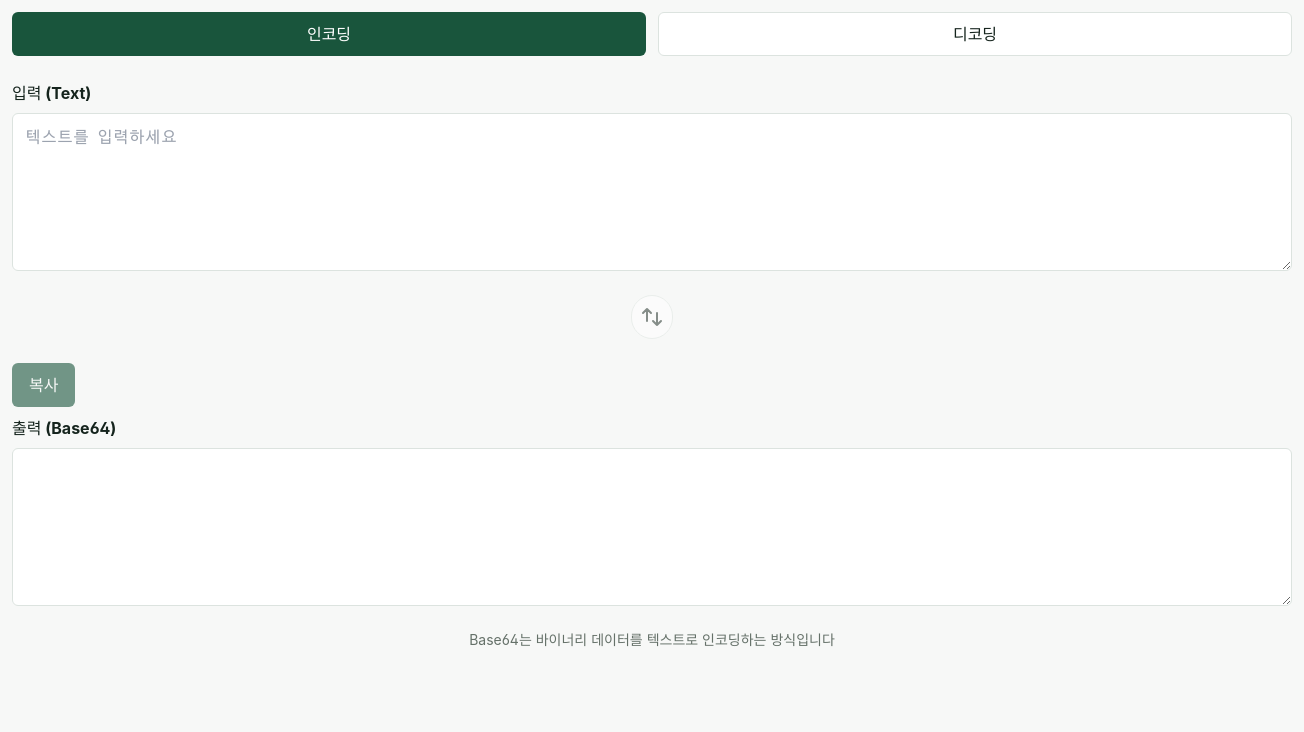
Test: Base64Tool › swaps input and output when swap button is clicked
Type "Test" into the text box with placeholder "텍스트를 입력하세요" at [652, 192], box top-left (12, 113), bottom-right (1292, 271)
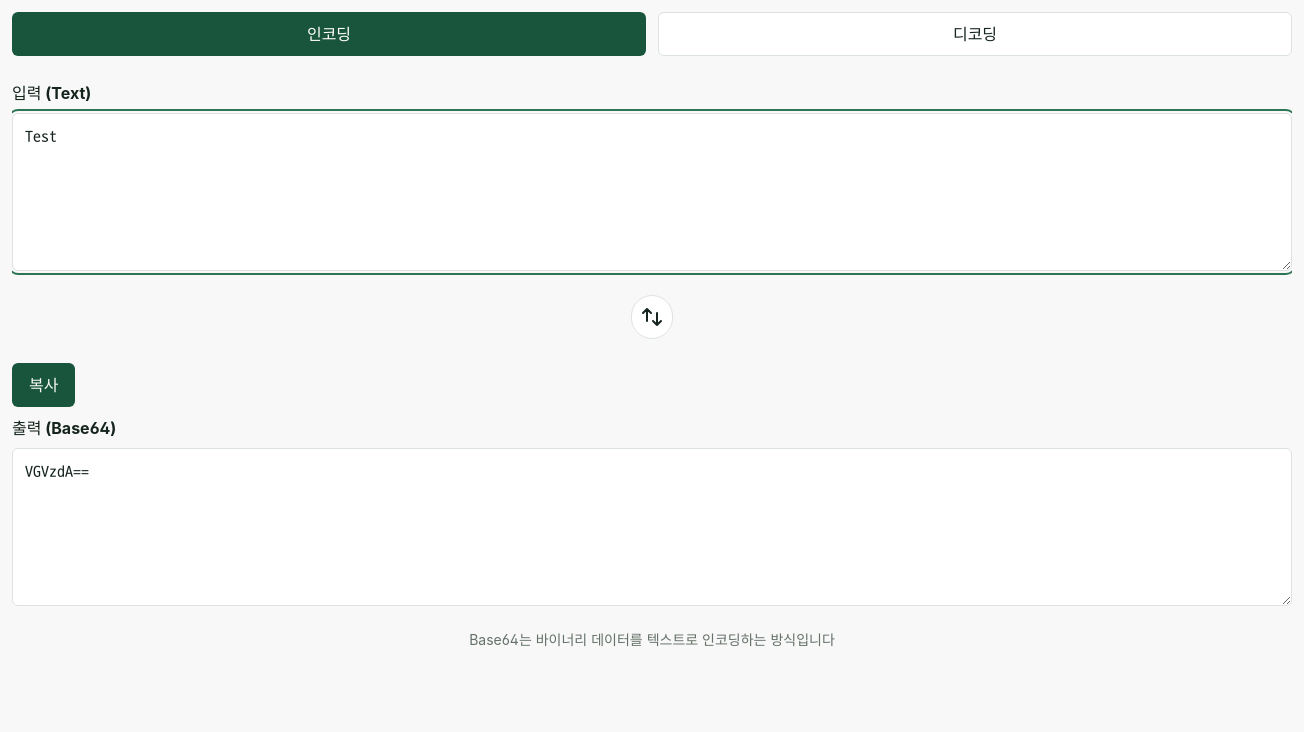
Click the button named "입력과 출력 바꾸기" at [652, 317], box top-left (631, 295), bottom-right (673, 339)
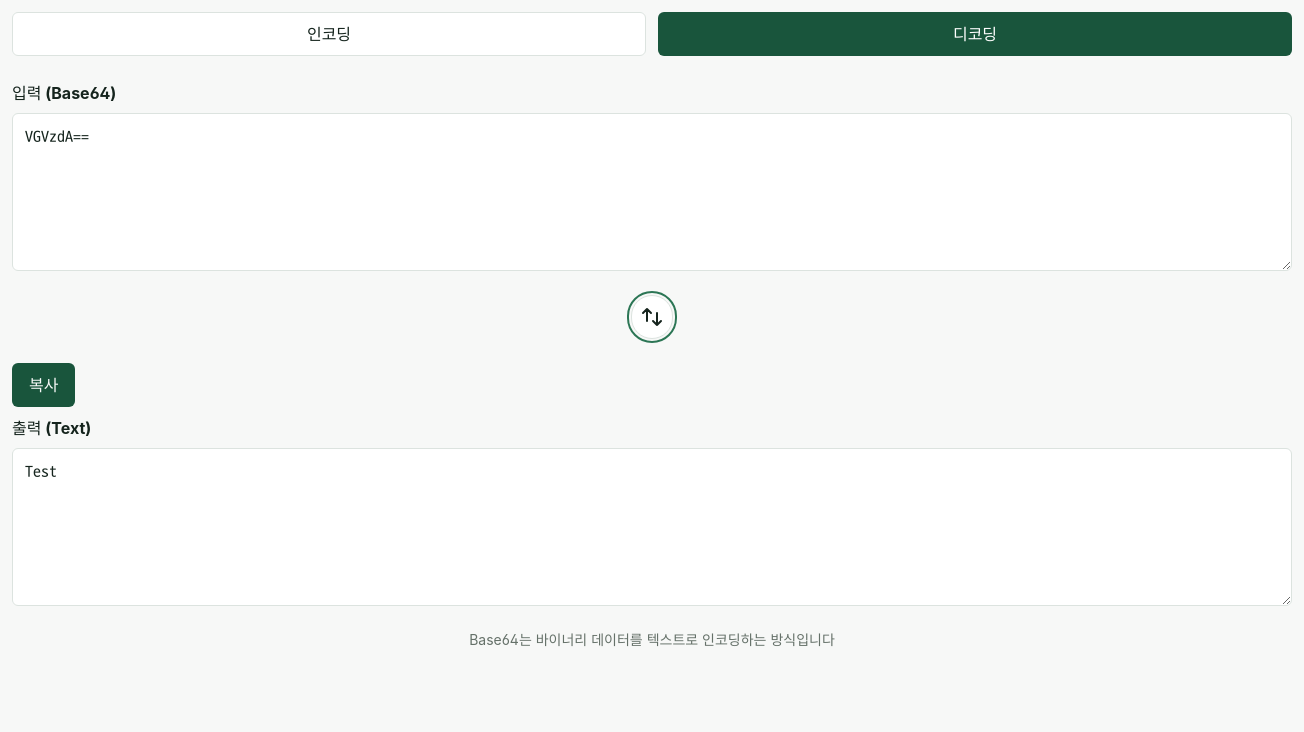
Expected: the text box with placeholder "텍스트를 입력하세요" holds "VGVzdA==", top-left (12, 113), bottom-right (1292, 271)
